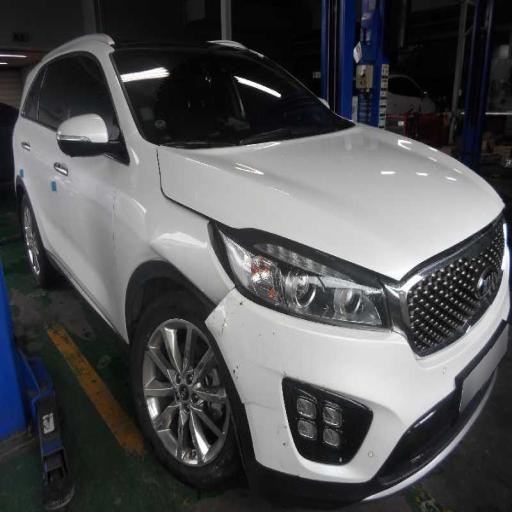broken: (138, 154, 316, 404)
